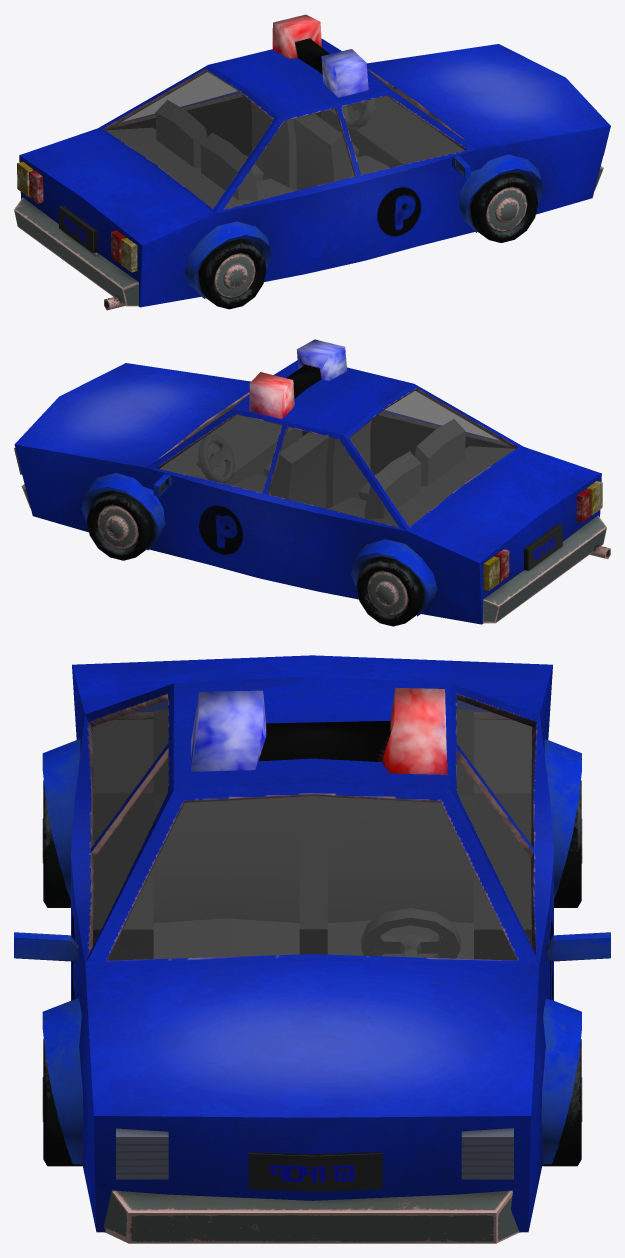
The model's file is copcar.fbx.
3 views of the same model, one above another, from view 1: azimuth 30°, elevation 25°; view 2: azimuth 150°, elevation 25°; view 3: azimuth 270°, elevation 25° (orthographic). The views are drawn at different scales.
Visible parts, largest first — view 1: Body, Windows, Seats, Covers, Wheels, WheelArches, TaxiSign, Bumpers, Lights, NumberPlates, SteeringWheel; view 2: Body, Windows, Seats, Wheels, Covers, WheelArches, Bumpers, TaxiSign, Lights, SteeringWheel, NumberPlates; view 3: Body, Windows, Seats, Covers, Bumpers, WheelArches, TaxiSign, Wheels, Lights, NumberPlates, SteeringWheel, Mirror.
Boxes of the visible parts, x1,y1,x2,y2 form: Body: (19,38,610,307); Windows: (105,71,464,209); Seats: (155,100,389,201); Covers: (106,87,464,209); Wheels: (198,172,538,309); WheelArches: (185,154,543,298); TaxiSign: (272,14,368,97); Bumpers: (14,166,603,306); Lights: (17,137,608,272); NumberPlates: (59,206,97,253); SteeringWheel: (341,99,376,129); Body: (14,360,601,624); Windows: (159,390,515,527); Seats: (234,419,465,519); Wheels: (86,490,423,626); Covers: (159,406,515,527); WheelArches: (81,472,437,616); Bumpers: (21,484,606,623); TaxiSign: (249,339,347,418); Lights: (14,448,602,590); SteeringWheel: (196,434,234,483); NumberPlates: (524,523,562,570); Body: (71,655,553,1232); Windows: (92,699,532,960); Seats: (153,709,473,959); Covers: (92,719,532,929); Bumpers: (104,1190,519,1243); WheelArches: (42,739,581,1164); TaxiSign: (191,687,447,774); Wheels: (42,780,582,1166); Lights: (116,1128,513,1179); NumberPlates: (248,1152,382,1191); SteeringWheel: (361,908,460,958); Mirror: (14,932,610,961).
Bounding box in the file's own units: 8.52 × 2.87 × 4.46.
